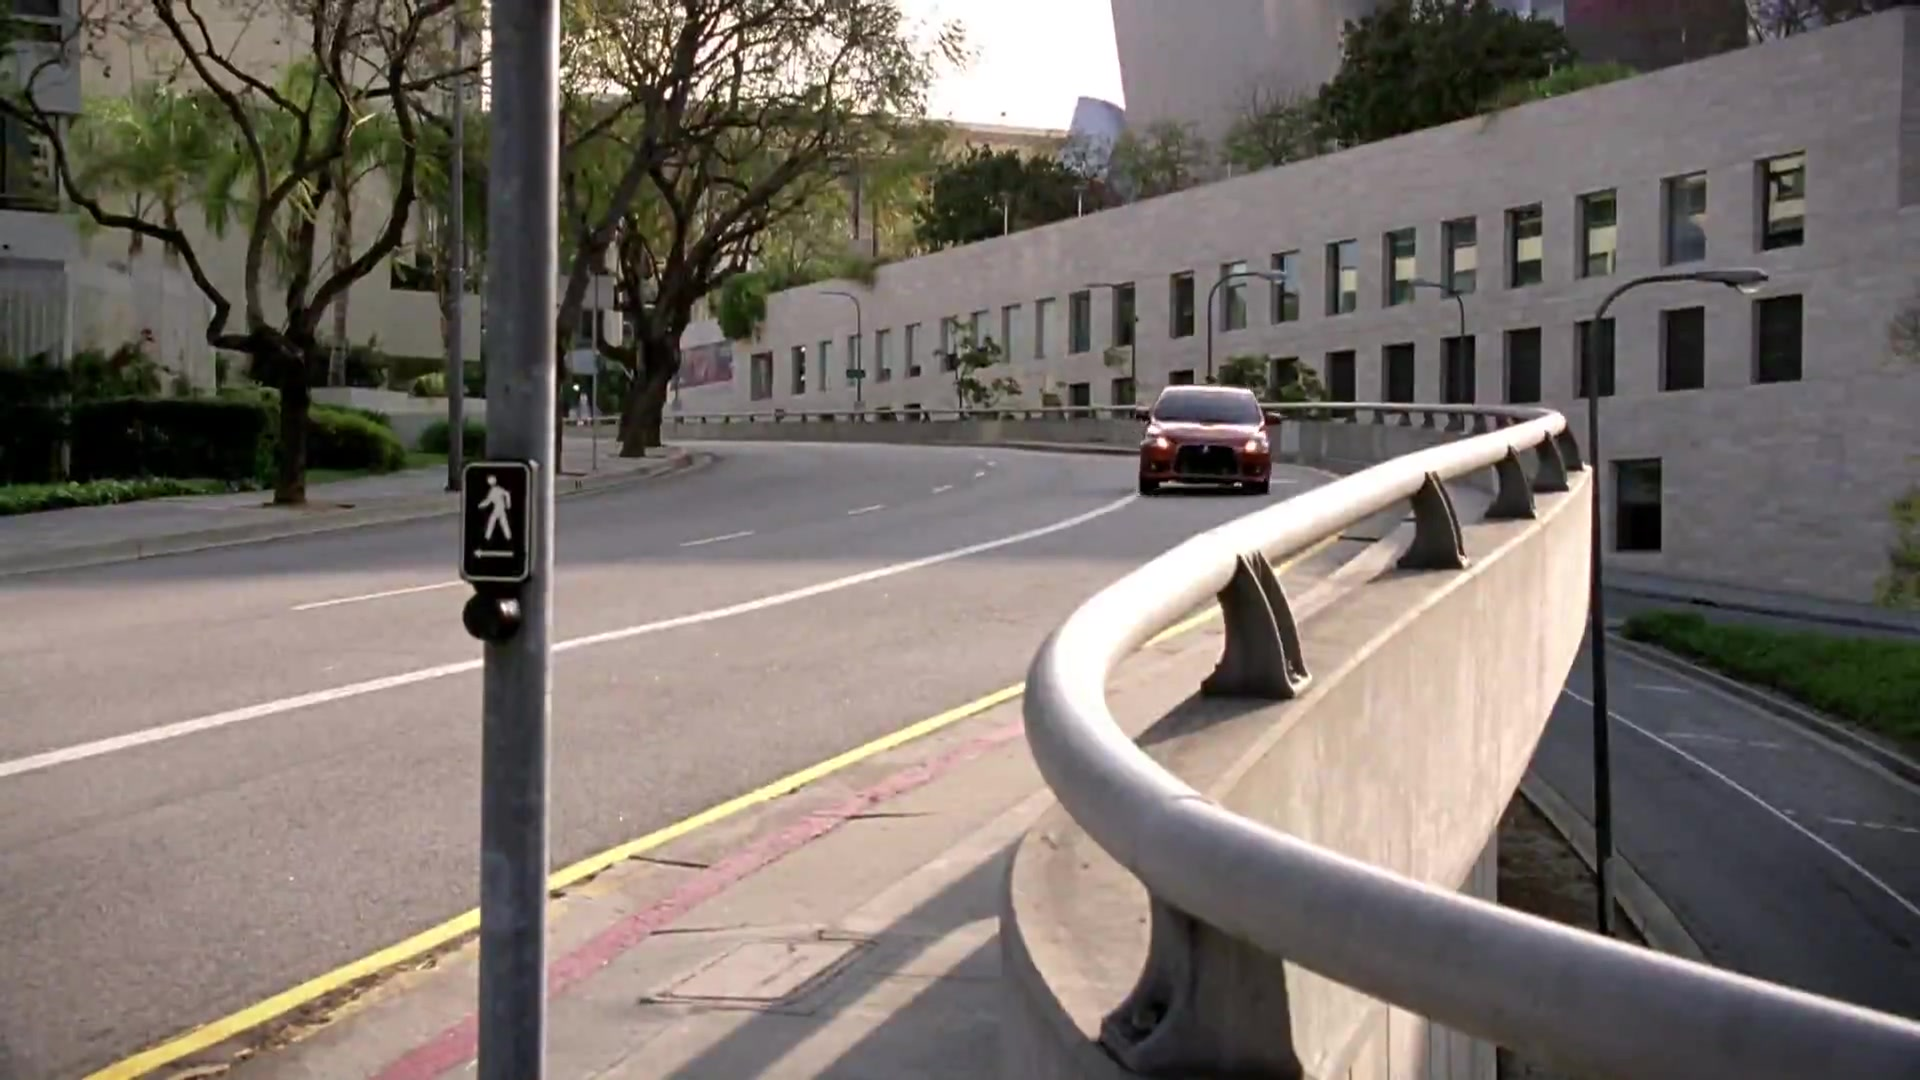car: (1124, 378, 1284, 506)
